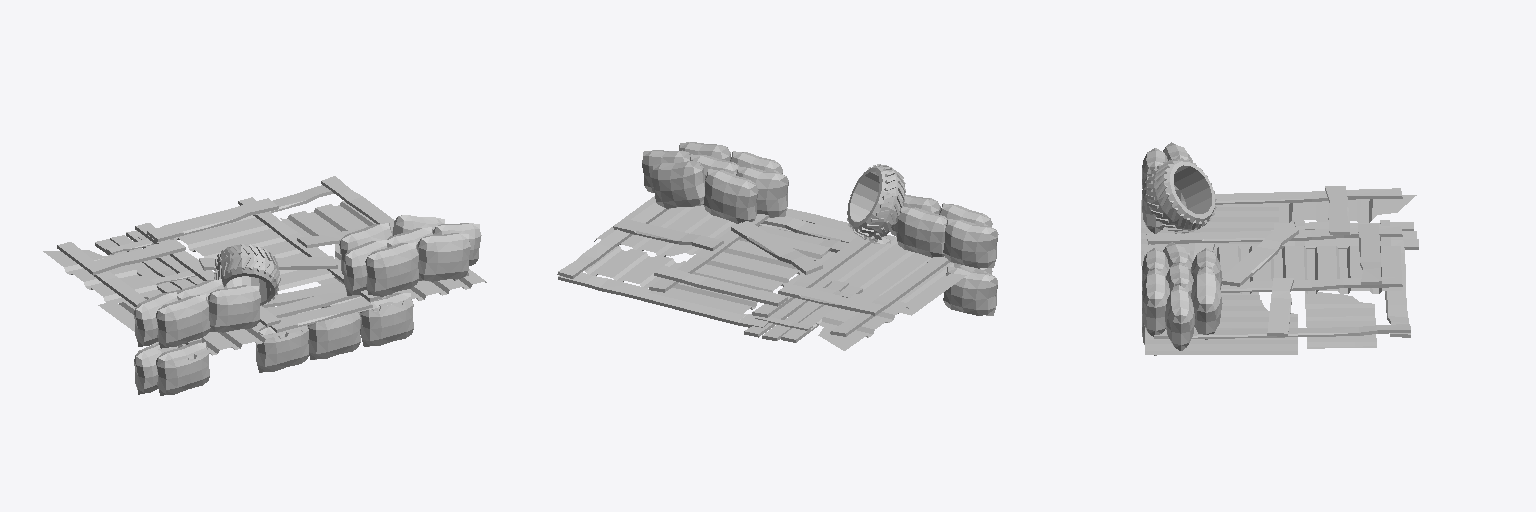
3 renders of one model, left to right at view 1: azimuth 30°, elevation 25°; view 2: azimuth 150°, elevation 25°; view 3: azimuth 270°, elevation 25°, orthographic.
Parts seen in each view (by area): view 1: Barrier_Trash.025_Cube.160; view 2: Barrier_Trash.025_Cube.160; view 3: Barrier_Trash.025_Cube.160.
Part boxes in pixels (x1,y1,x2,y2): Barrier_Trash.025_Cube.160: (43,176,486,395); Barrier_Trash.025_Cube.160: (557,142,998,350); Barrier_Trash.025_Cube.160: (1141,142,1418,355).
Size of the model in its own units: 741 by 267 by 512.